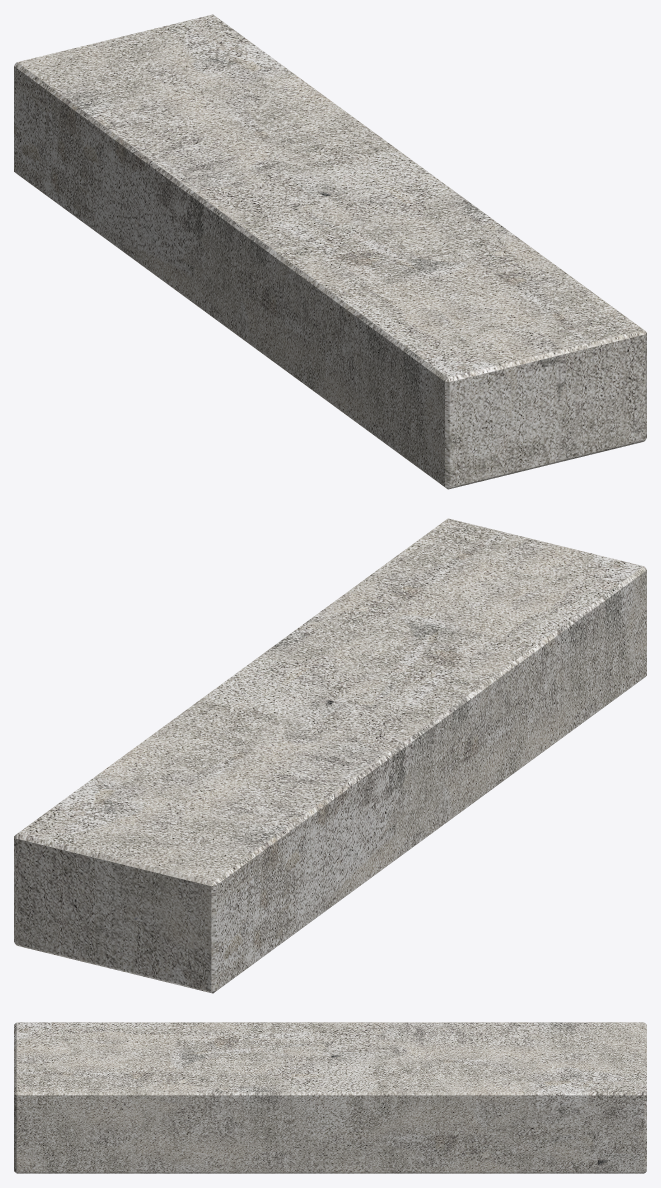
The model's file is SM_Gyedong_Stair_01A.fbx.
3 views of the same model, one above another, from view 1: azimuth 30°, elevation 25°; view 2: azimuth 150°, elevation 25°; view 3: azimuth 270°, elevation 25° (orthographic). The views are drawn at different scales.
Visible parts, largest first — view 1: SM_Gyedong_Stair_01A; view 2: SM_Gyedong_Stair_01A; view 3: SM_Gyedong_Stair_01A.
Boxes of the visible parts, left/top/right/bottom form: SM_Gyedong_Stair_01A: left=14, top=14, right=646, bottom=489; SM_Gyedong_Stair_01A: left=14, top=518, right=646, bottom=993; SM_Gyedong_Stair_01A: left=14, top=1022, right=646, bottom=1173.
Size of the model in its own units: 33.04 by 17.49 by 123.
